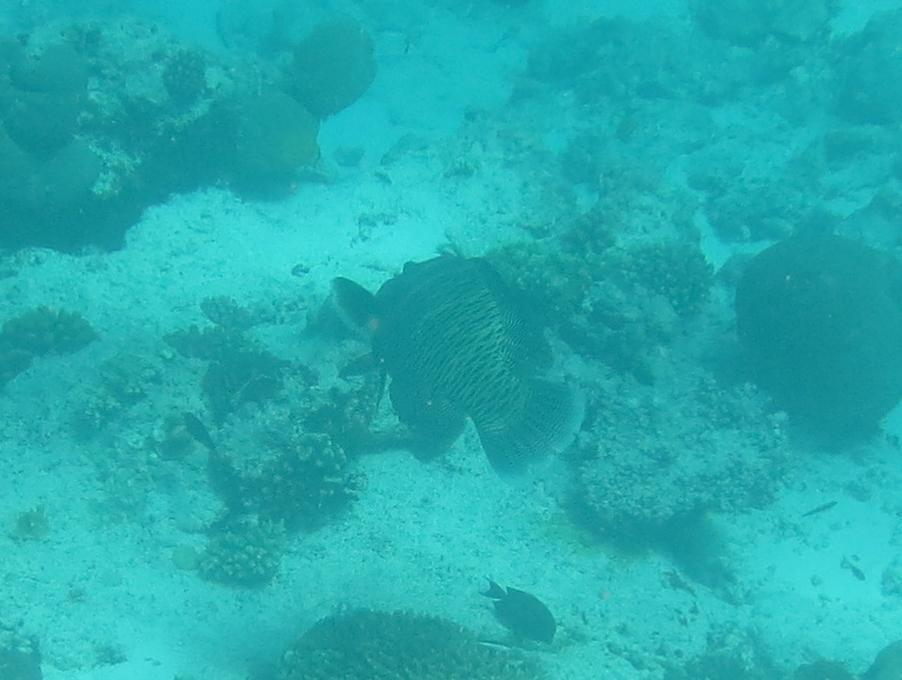Fish: (259, 191, 726, 535)
